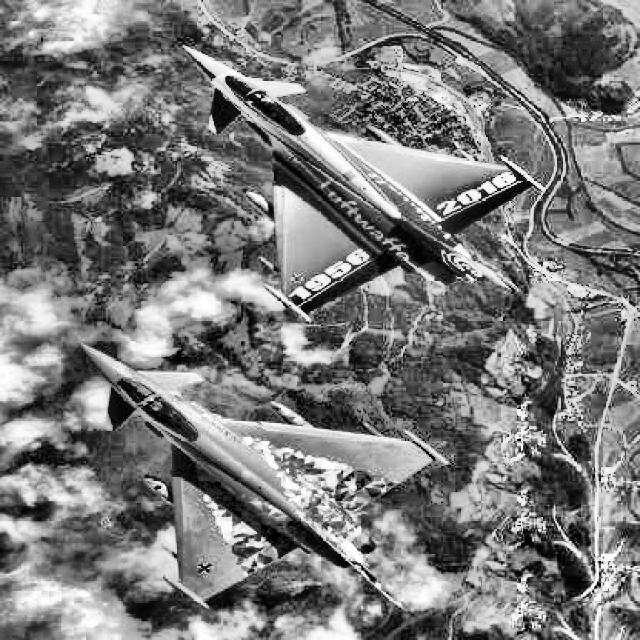EF2000: (78, 340, 450, 612), (182, 45, 546, 322)
